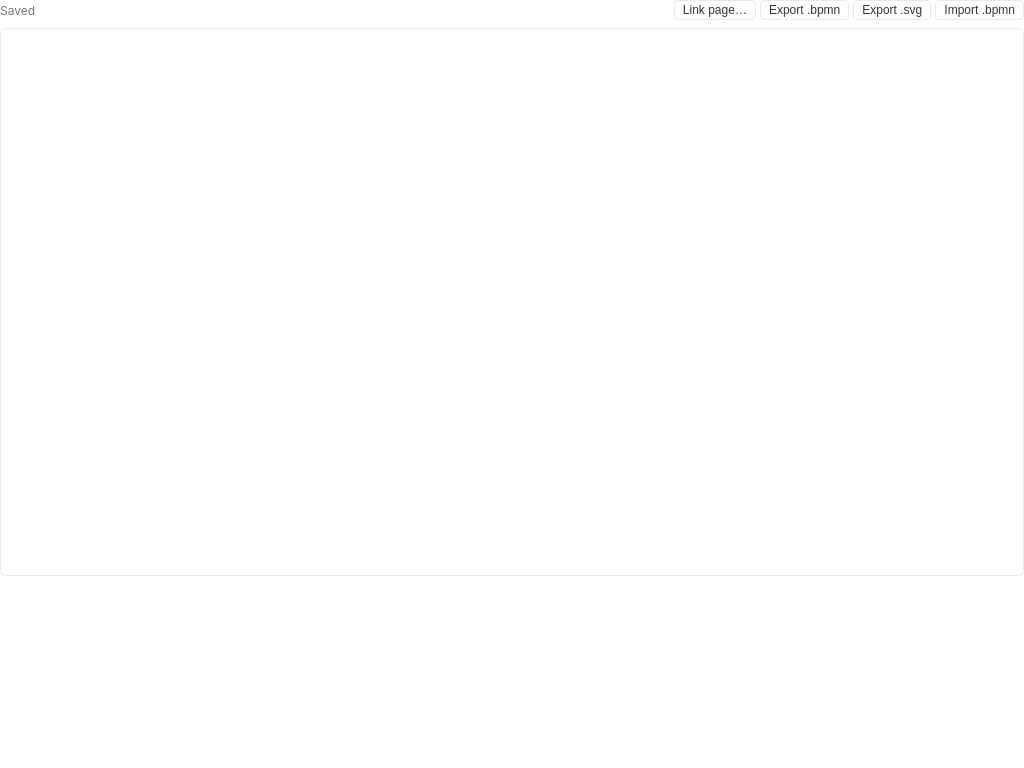
it: BpmnView › links the selected task to a page and saves the diagram
The width and height of the screenshot is (1024, 768).
What coordinates should you click on to do the following:
click the button "Link page…"
I would click on:
 (715, 10)
Its box is x1=674 y1=0 x2=756 y2=20.
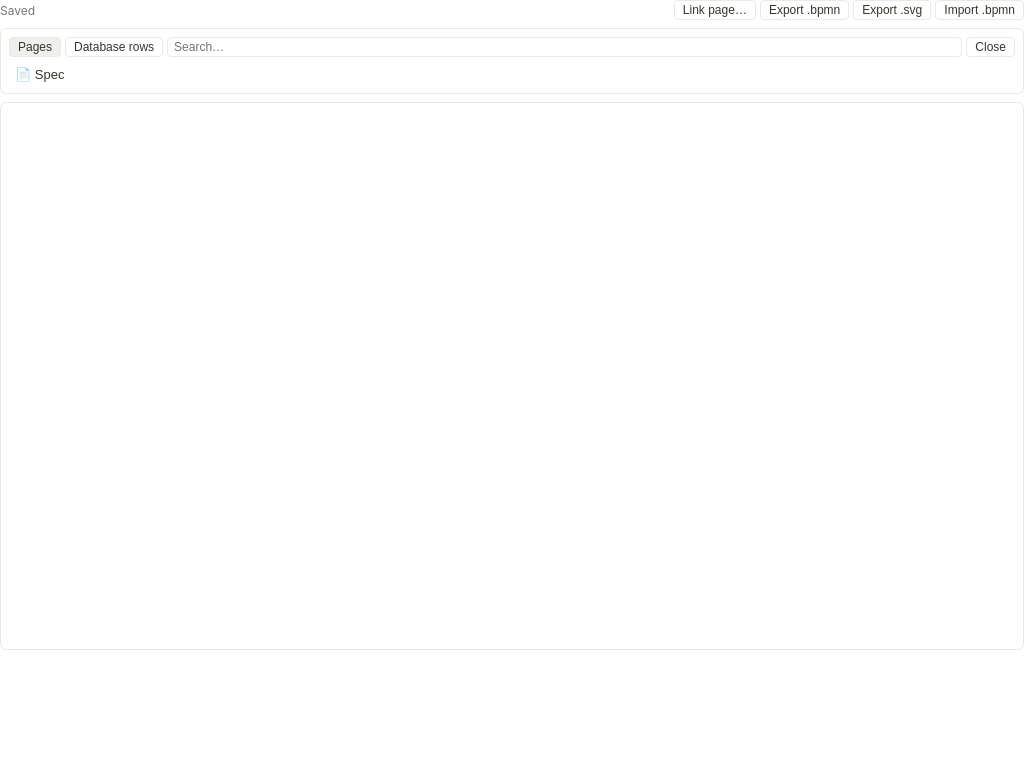
What coordinates should you click on to do the following:
click the button "📄 Spec"
I would click on:
 (23, 74)
Its box is x1=9 y1=64 x2=1015 y2=85.
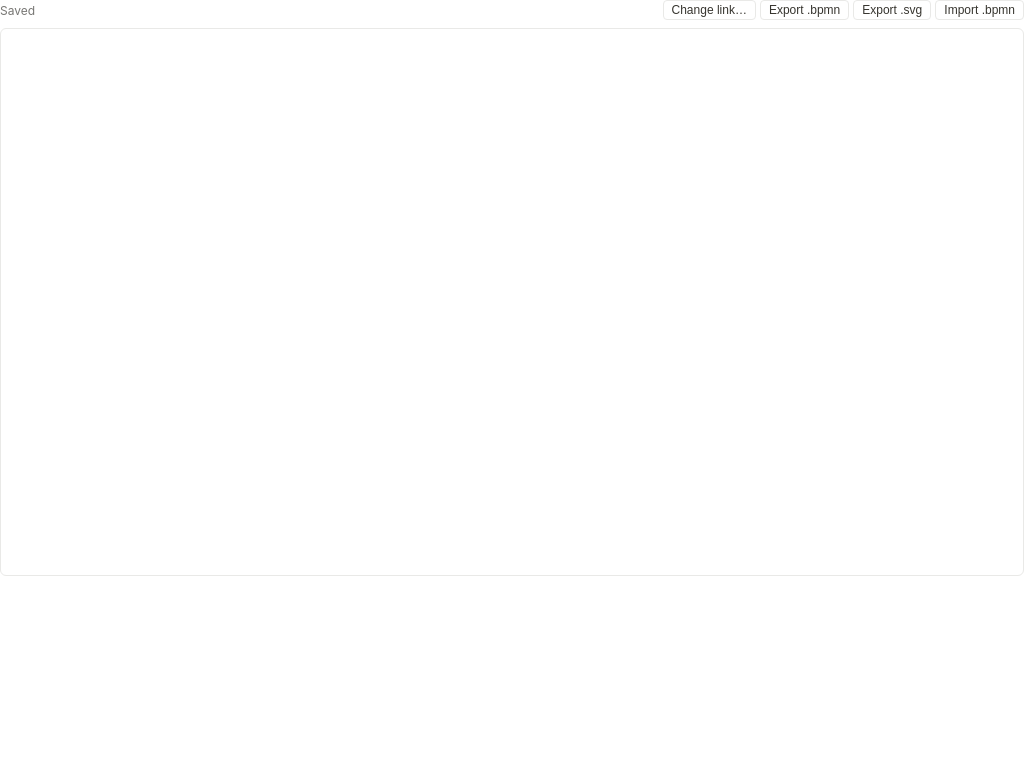
Now the dialog is gone
Now the button "Change link…" is shown, box x1=662 y1=0 x2=756 y2=20
